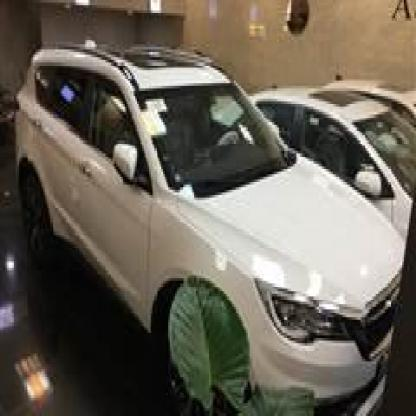Car: (0, 41, 409, 416), (261, 67, 416, 244)
